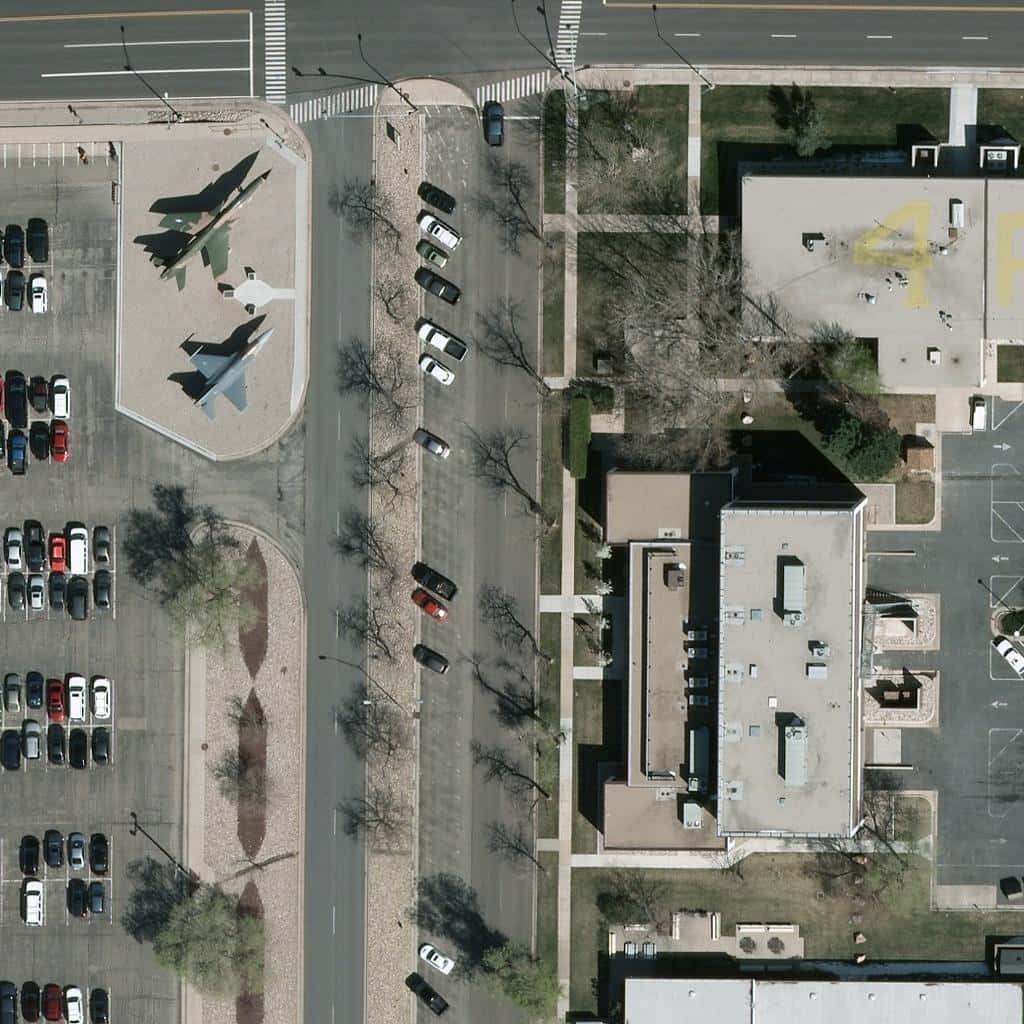plane: (150, 164, 274, 289), (180, 326, 274, 419)
